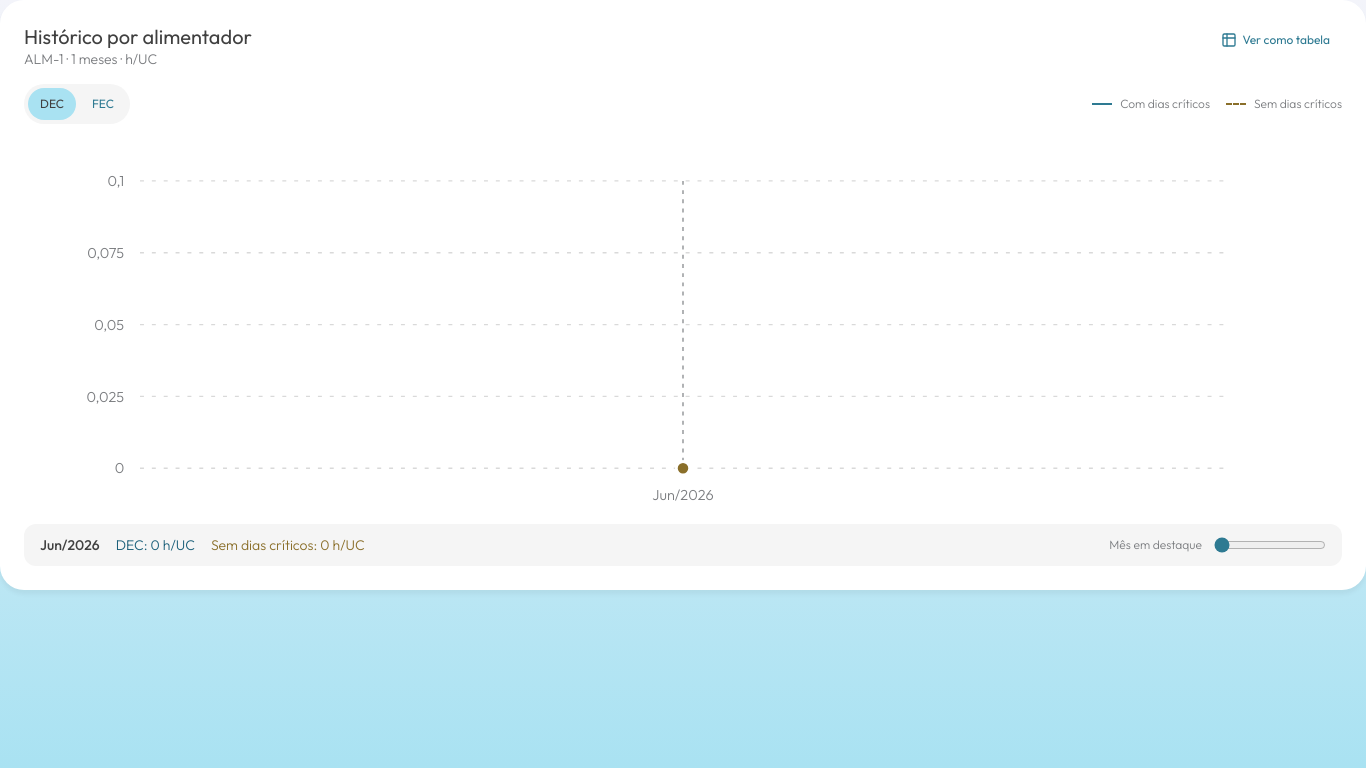
Scenario: Histórico operacional › exibe mês único centralizado, sem coordenadas inválidas e com tabela acessível
Click the button "Ver como tabela". click: (1275, 40)
box: top-left (1209, 24), bottom-right (1342, 56)
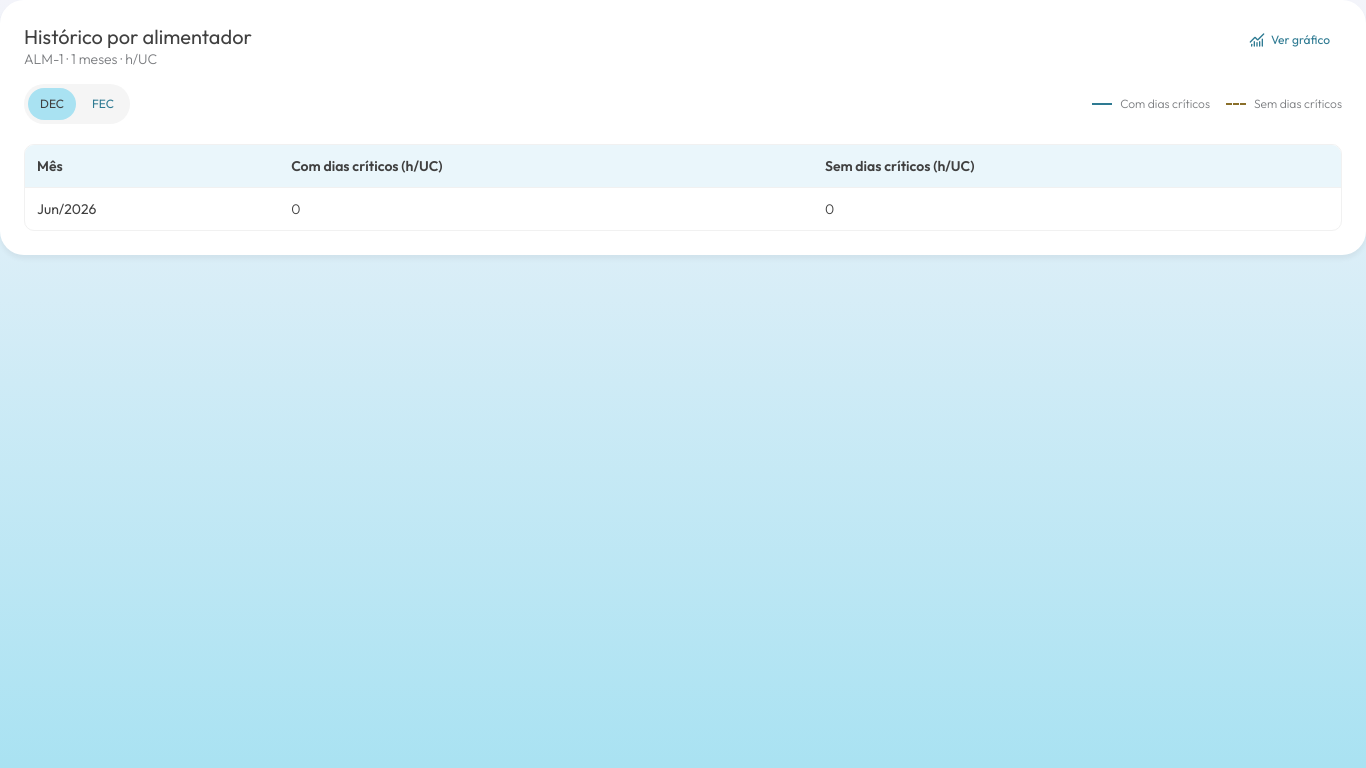
Expected: the column heading "Jun/2026" is shown, top-left (25, 188), bottom-right (279, 230)
Expected: the text "0" is shown 2 times, top-left (279, 188), bottom-right (813, 230); top-left (813, 188), bottom-right (1341, 230)
